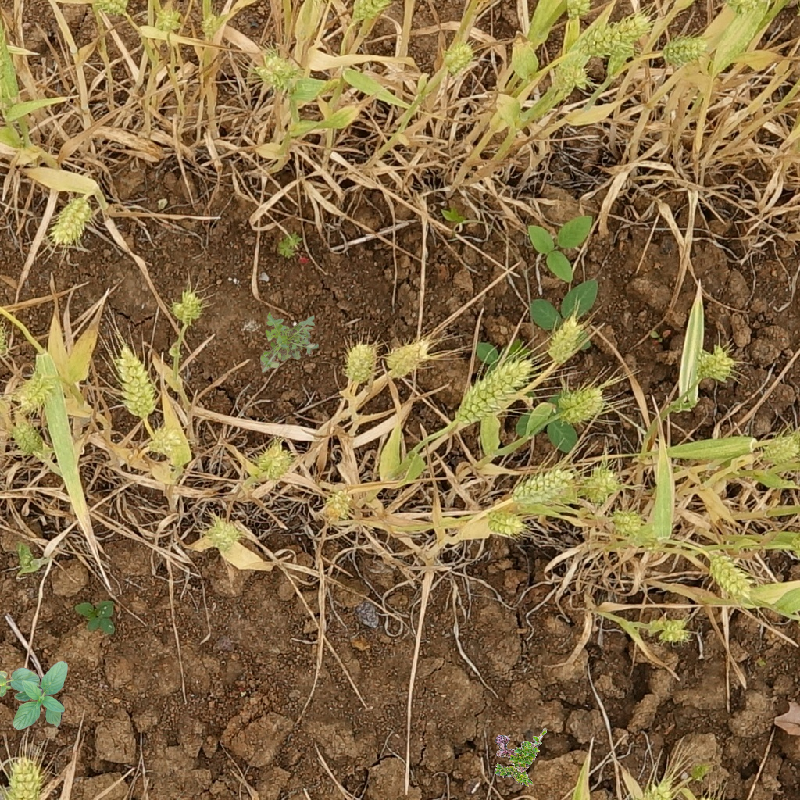spikelet: (450, 350, 537, 428), (576, 10, 653, 57), (112, 342, 159, 418), (508, 461, 578, 507), (704, 549, 756, 603), (48, 192, 95, 248), (551, 381, 608, 425), (543, 310, 587, 363), (384, 333, 433, 379), (255, 47, 301, 92), (3, 752, 46, 799), (340, 337, 381, 386), (659, 30, 711, 68), (14, 369, 59, 412), (692, 343, 738, 385), (253, 438, 295, 481), (550, 52, 593, 94), (580, 462, 622, 503), (203, 512, 246, 551), (317, 483, 355, 526), (756, 429, 800, 465), (483, 506, 528, 540), (439, 37, 477, 76), (8, 417, 43, 457), (170, 286, 203, 326), (144, 423, 181, 458), (605, 506, 646, 537), (656, 614, 694, 646), (348, 1, 400, 23), (628, 777, 677, 799), (88, 1, 131, 17), (559, 1, 596, 19), (1, 313, 10, 362)
weed: (483, 713, 553, 789), (1, 661, 68, 730), (528, 218, 596, 282), (260, 312, 319, 373), (525, 279, 601, 325), (78, 597, 117, 638), (279, 233, 305, 256)
